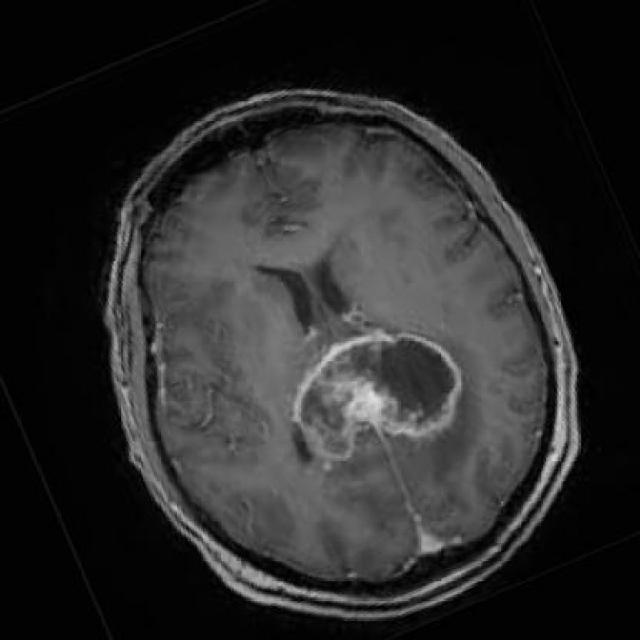Brain-Tumor: (279, 327, 473, 472)
